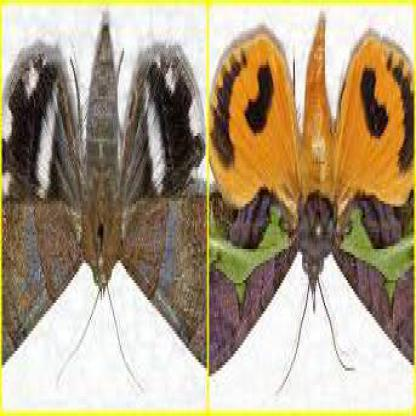fruit sucking moth: (209, 19, 413, 377)
